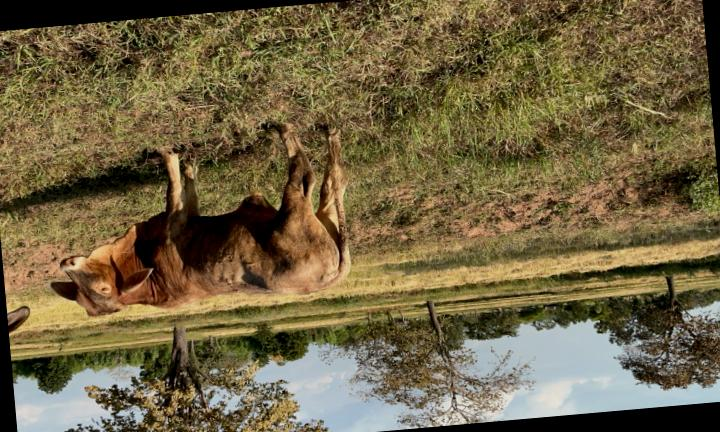Charolais: (52, 125, 350, 316)
